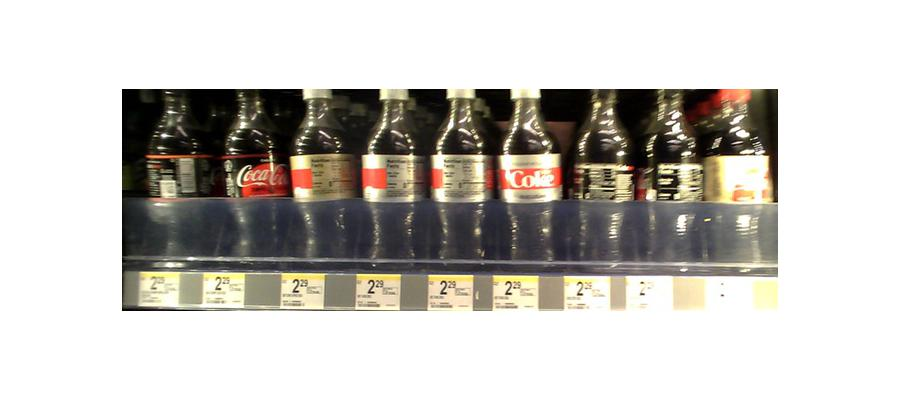bottle: (701, 87, 771, 267), (290, 88, 360, 266), (570, 84, 633, 265), (363, 86, 426, 265), (222, 85, 286, 260), (500, 80, 561, 263), (433, 85, 492, 266), (642, 85, 698, 267), (146, 91, 203, 261)
